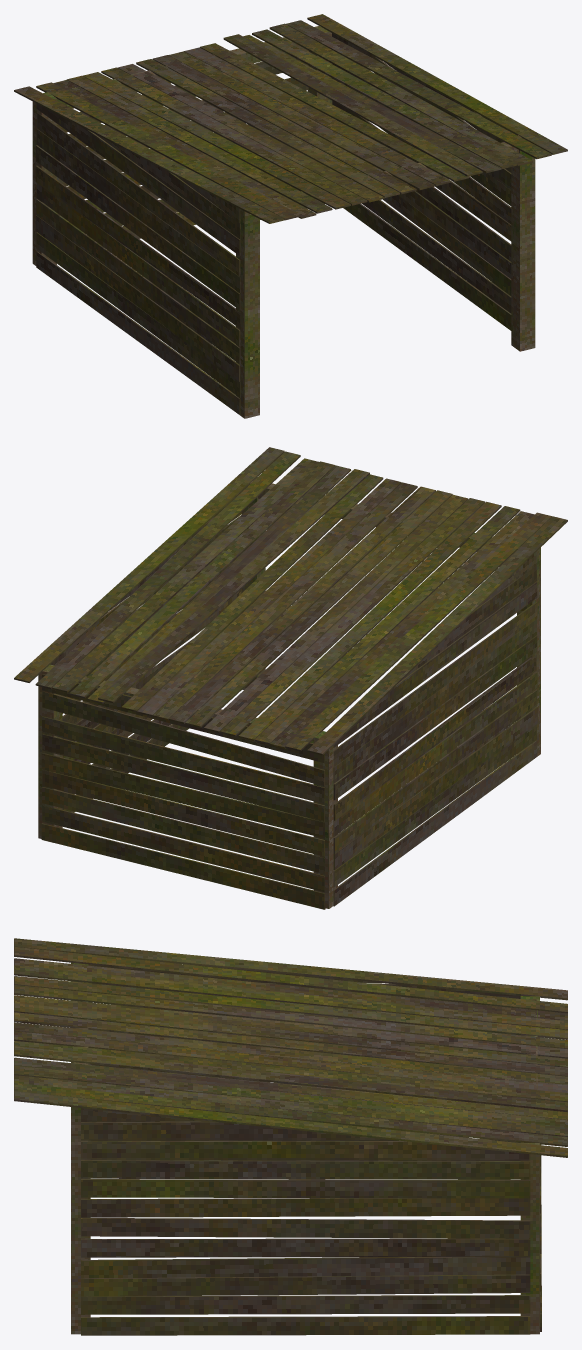
File: bul4.glb
3 renders of one model, top to bottom at view 1: azimuth 30°, elevation 25°; view 2: azimuth 150°, elevation 25°; view 3: azimuth 270°, elevation 25°, orthographic. The views are drawn at different scales.
Visible parts, largest first — view 1: Wooden_Shed; view 2: Wooden_Shed; view 3: Wooden_Shed.
Boxes of the visible parts, x1,y1,x2,y2 form: Wooden_Shed: (14,14,567,418); Wooden_Shed: (14,447,567,909); Wooden_Shed: (14,938,567,1335).
Bounding box in the file's own units: 4.04 × 2.71 × 5.67.
2 materials, 2 textured.
